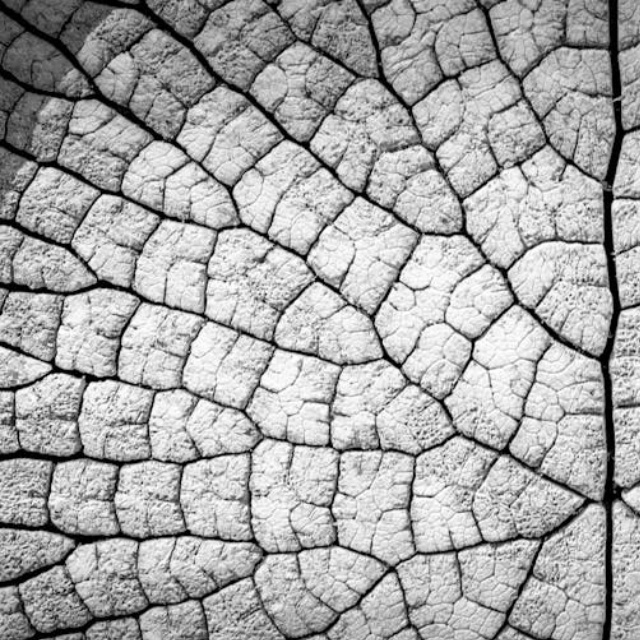细微裂纹: (58, 0, 487, 228)
